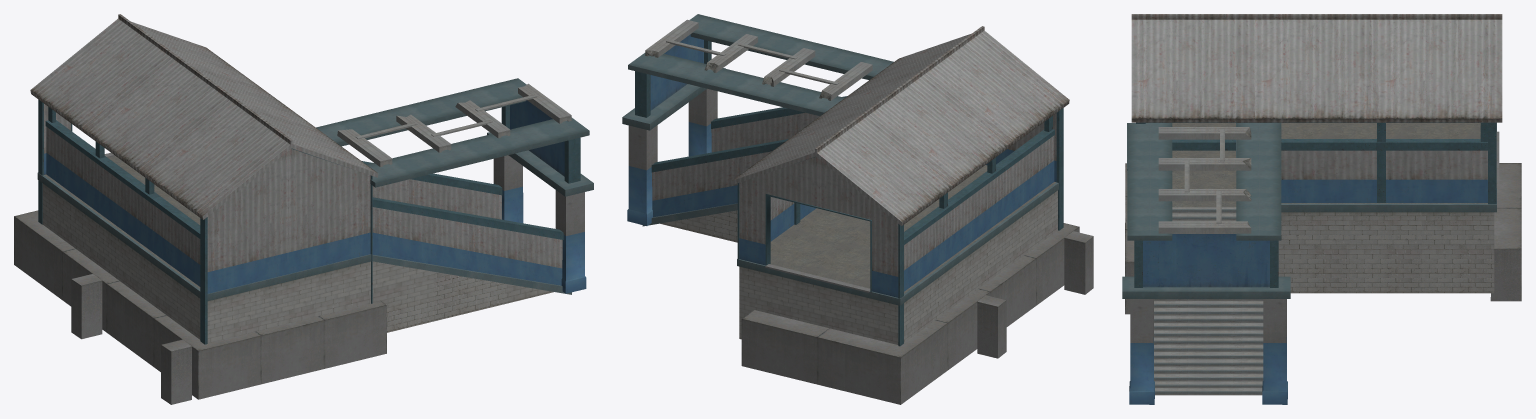
The model's file is Building_Fdc02_2048.glb.
3 renders of one model, left to right at view 1: azimuth 30°, elevation 25°; view 2: azimuth 150°, elevation 25°; view 3: azimuth 270°, elevation 25°, orthographic. The views are drawn at different scales.
Parts seen in each view (by area): view 1: xiutz_fdc_02; view 2: xiutz_fdc_02; view 3: xiutz_fdc_02.
Part boxes in pixels (<box>): xiutz_fdc_02: <box>14,14,593,404</box>; xiutz_fdc_02: <box>622,14,1093,404</box>; xiutz_fdc_02: <box>1122,14,1521,404</box>.
Size of the model in its own units: 22.9 by 12.56 by 17.71.
Materials: 1 (1 with a texture image).
